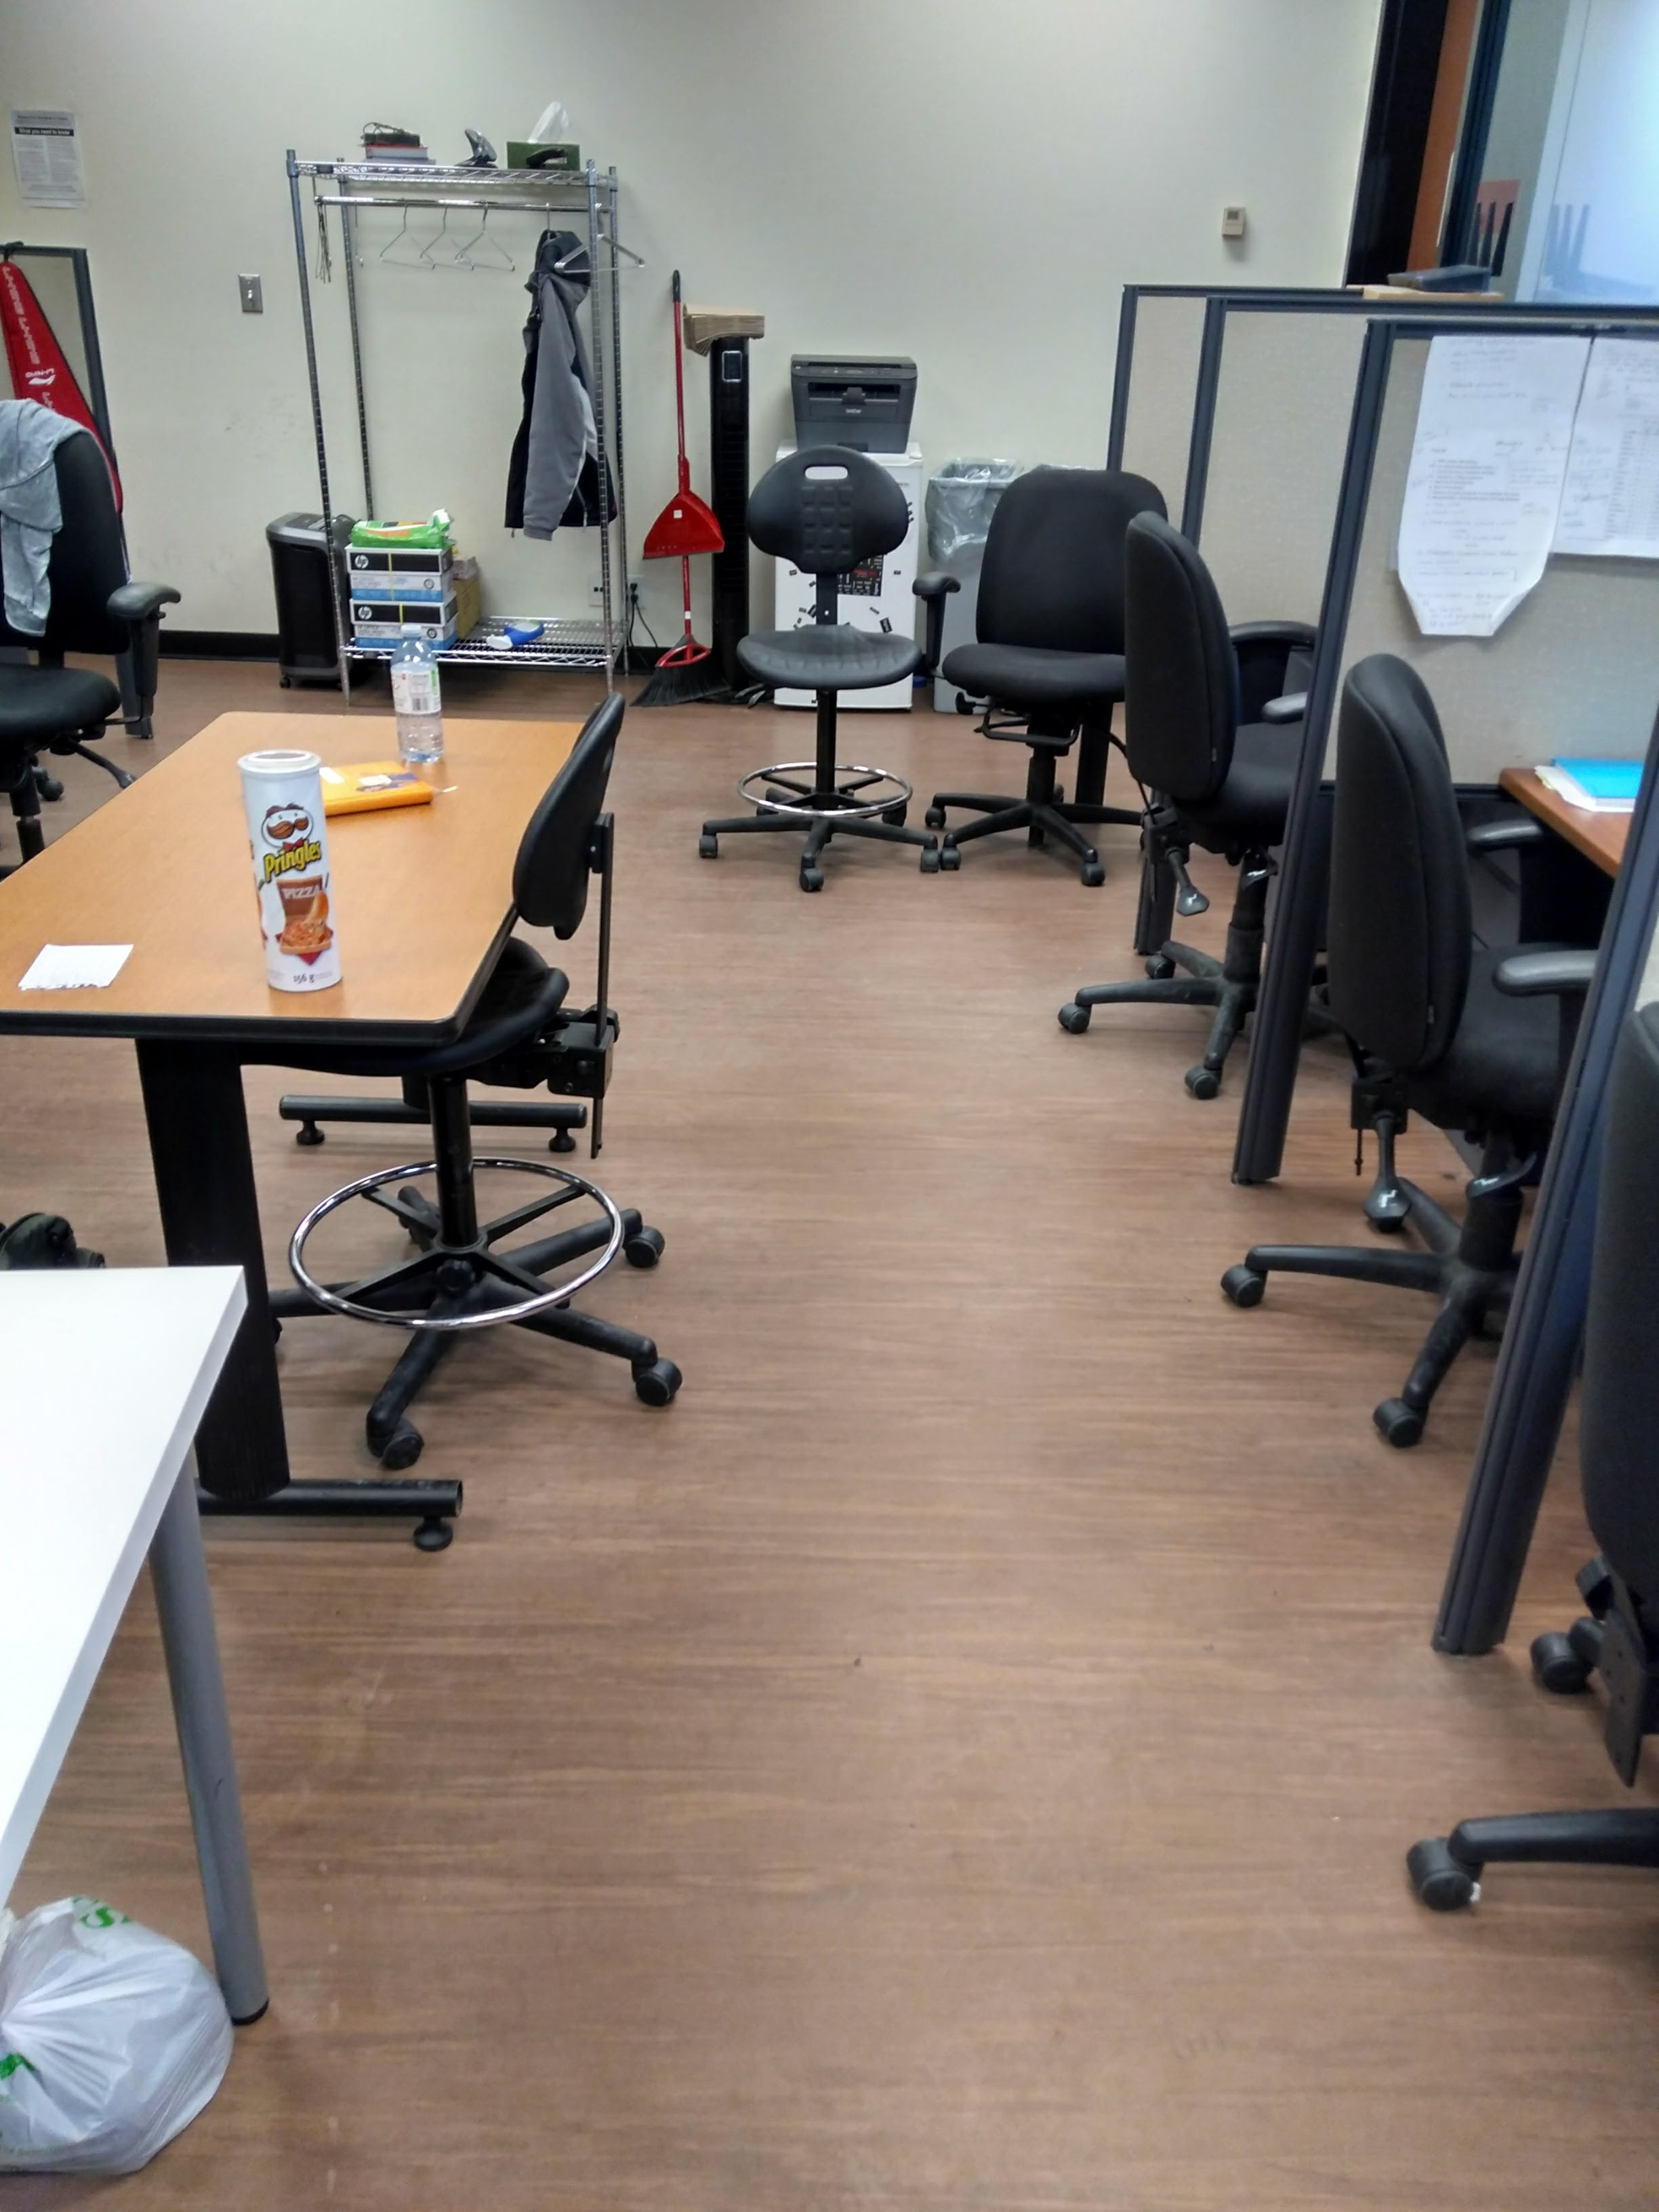pringles: (211, 733, 366, 1028)
